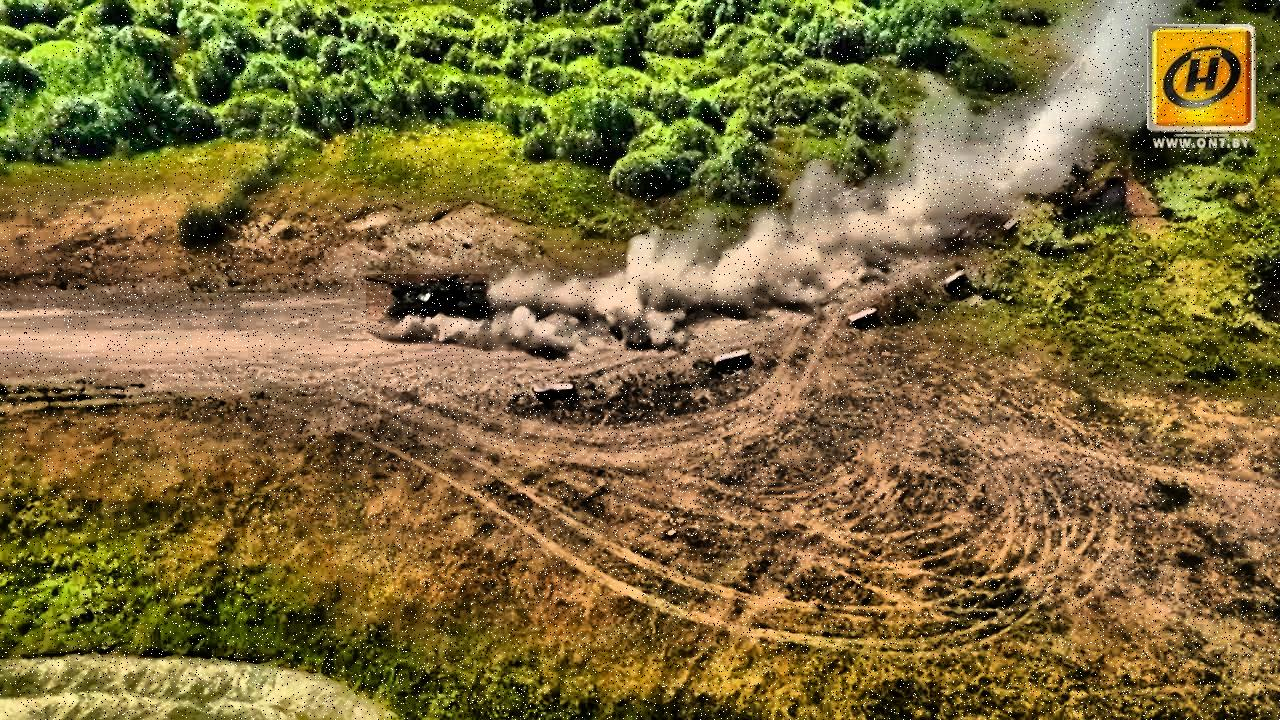military-vehicle: (367, 274, 490, 318)
